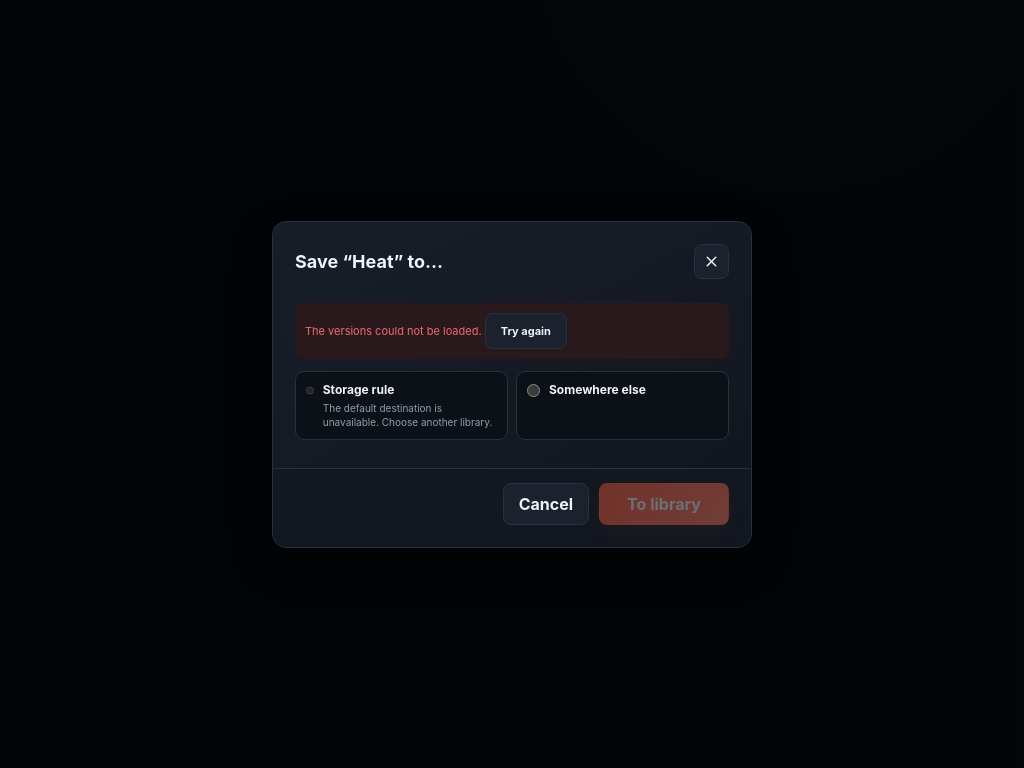
Scenario: NativeLibrarySaveDialog › shows a retry when the version read fails and reads again on demand
Check: the element with class "save-target-card" shows "The versions could not be loaded.", box x1=305 y1=324 x2=482 y2=338
Check: the button "To library" is disabled, box x1=599 y1=482 x2=729 y2=524
Click the button "Try again". click: click(526, 330)
box: x1=485 y1=312 x2=567 y2=348
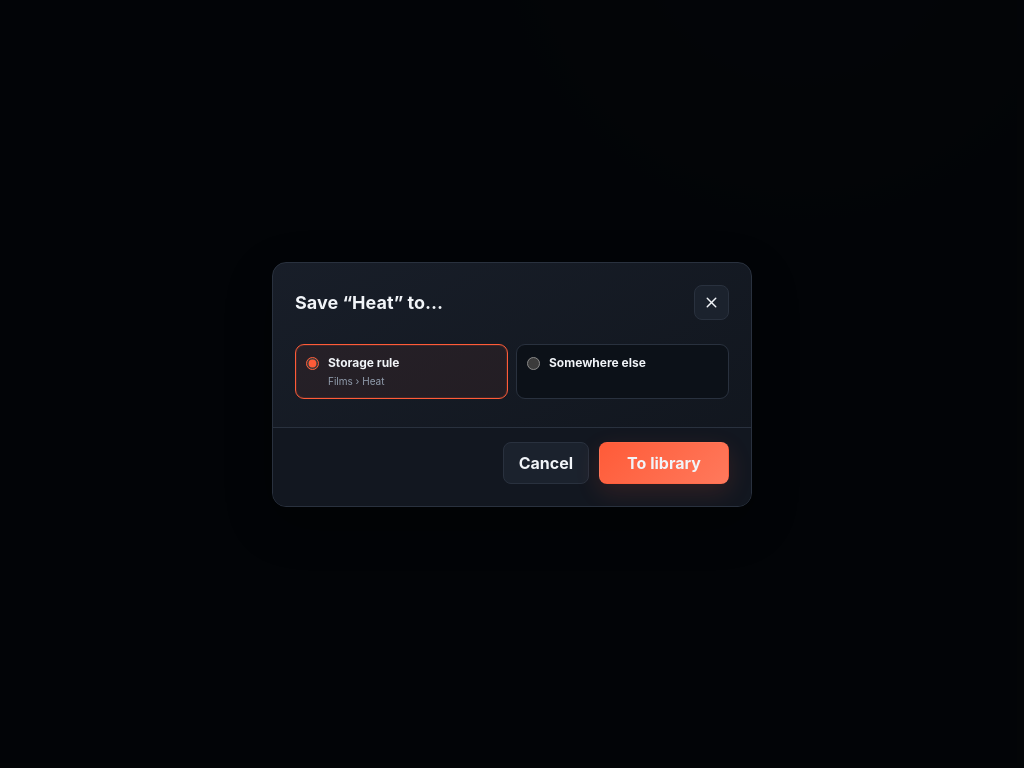
Check: the button "To library" is enabled, box x1=599 y1=442 x2=729 y2=484
